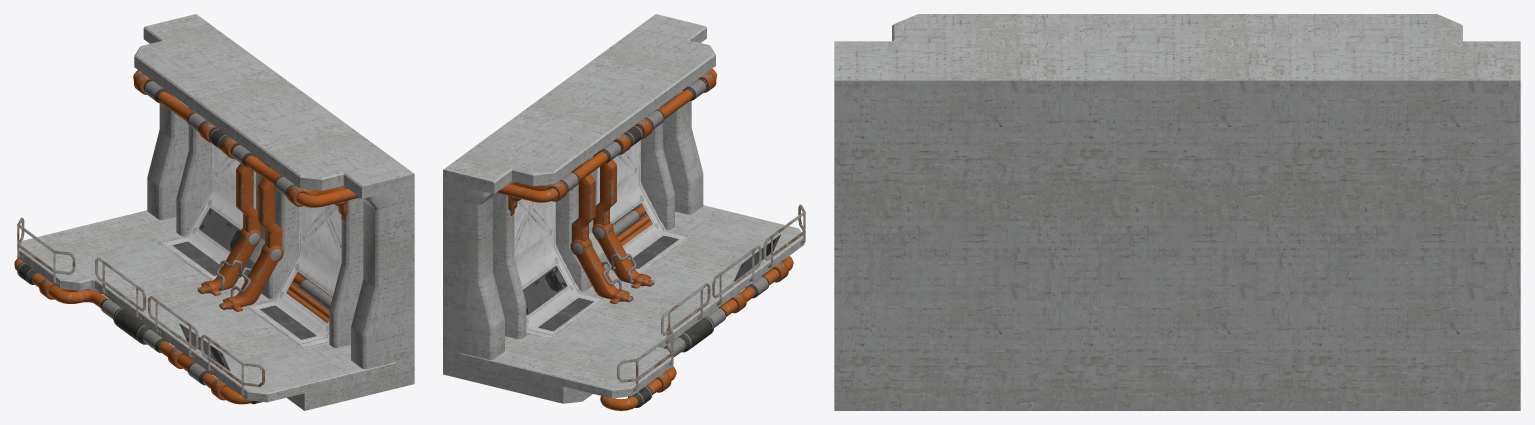
Rendered from bunker.glb.
3 views of the same model, side by side, from view 1: azimuth 30°, elevation 25°; view 2: azimuth 150°, elevation 25°; view 3: azimuth 270°, elevation 25° (orthographic). The views are drawn at different scales.
Parts seen in each view (by area): view 1: Box001, Box003, wall_panel_01_1_set_015, pilar_213, wall_panel_01_1_set_8, Box002, pilar_214, pilar_209, support_3, support_02_311, pilar_15, pilar_16 (+14 smaller); view 2: Box001, Box003, wall_panel_01_1_set_8, pilar_214, wall_panel_01_1_set_015, Box002, pilar_213, pilar_15, support_02_311, support_3, pilar_209, pilar_212 (+12 smaller); view 3: Box002, Box003.
Part boxes in pixels (bbox=[...]): Box001: bbox=[17, 210, 396, 410]; Box003: bbox=[134, 14, 414, 198]; wall_panel_01_1_set_015: bbox=[179, 204, 341, 370]; pilar_213: bbox=[351, 190, 396, 369]; wall_panel_01_1_set_8: bbox=[157, 143, 255, 280]; Box002: bbox=[396, 174, 414, 388]; pilar_214: bbox=[147, 92, 188, 220]; pilar_209: bbox=[329, 185, 363, 347]; support_3: bbox=[219, 137, 283, 311]; support_02_311: bbox=[197, 121, 261, 295]; pilar_15: bbox=[176, 108, 211, 235]; pilar_16: bbox=[261, 176, 298, 299]; Box001: bbox=[460, 205, 804, 403]; Box003: bbox=[443, 14, 715, 193]; wall_panel_01_1_set_8: bbox=[514, 199, 608, 340]; pilar_214: bbox=[460, 186, 504, 359]; wall_panel_01_1_set_015: bbox=[597, 140, 780, 281]; Box002: bbox=[443, 170, 460, 378]; pilar_213: bbox=[663, 90, 703, 214]; pilar_15: bbox=[493, 181, 526, 339]; support_02_311: bbox=[570, 133, 633, 303]; support_3: bbox=[592, 118, 654, 288]; pilar_209: bbox=[641, 105, 674, 230]; pilar_212: bbox=[556, 171, 592, 291]; Box002: bbox=[834, 80, 1520, 410]; Box003: bbox=[834, 14, 1520, 80].
Size of the model in its own units: 763 by 830 by 1500.
4 materials, 4 textured.
